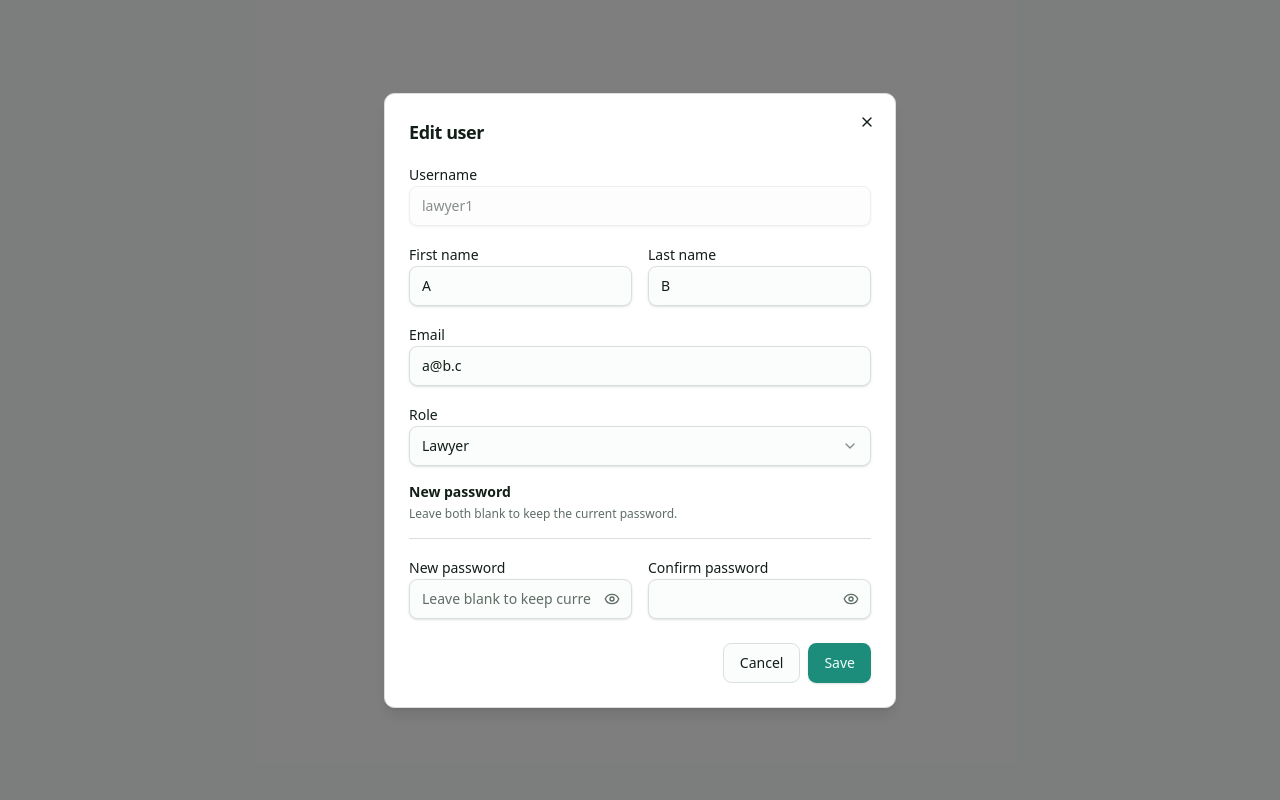
it: UserFormDialog password section › refuses to submit when the two passwords differ
The image size is (1280, 800).
Type "correct-horse-1" into the password field labelled "New password".
click(520, 598); type("correct-horse-1")  # box [409, 578, 632, 618]
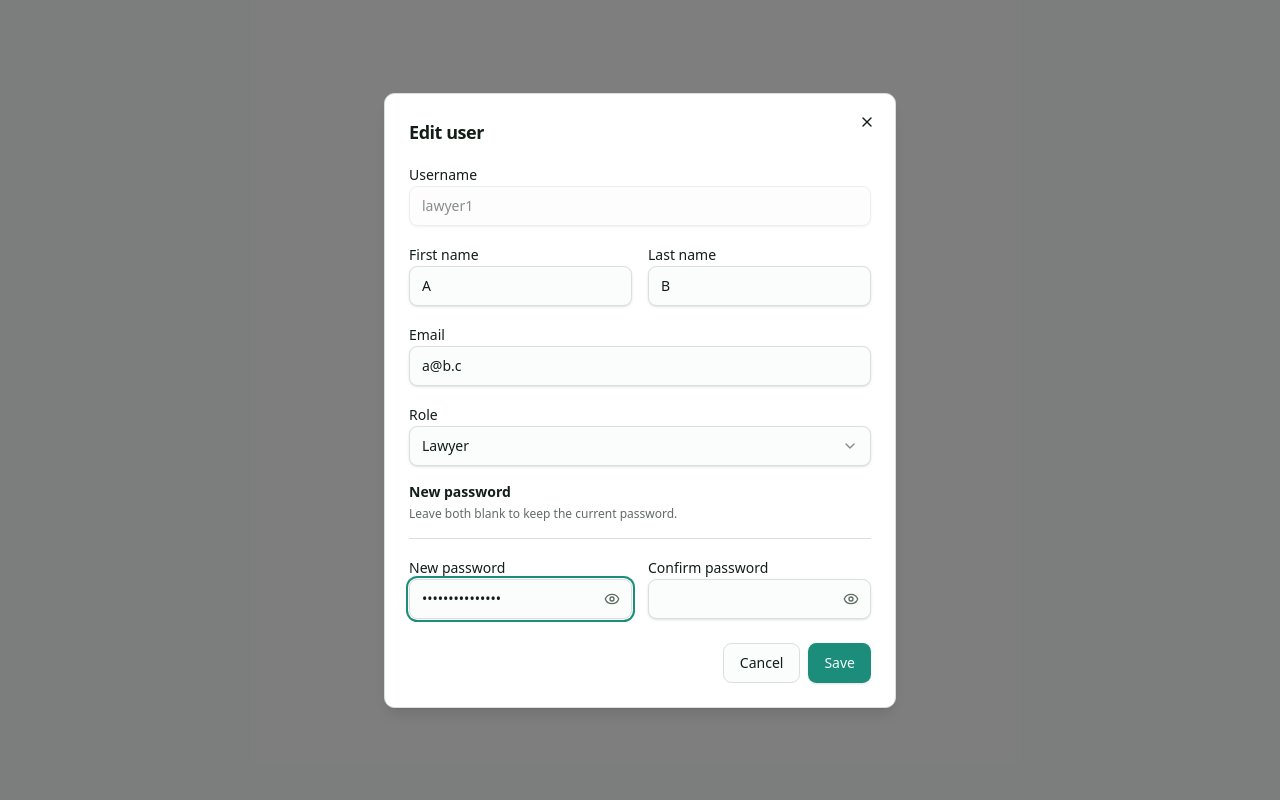
Type "correct-horse-2" into the password field labelled "Confirm password".
click(760, 598); type("correct-horse-2")  # box [648, 578, 871, 618]
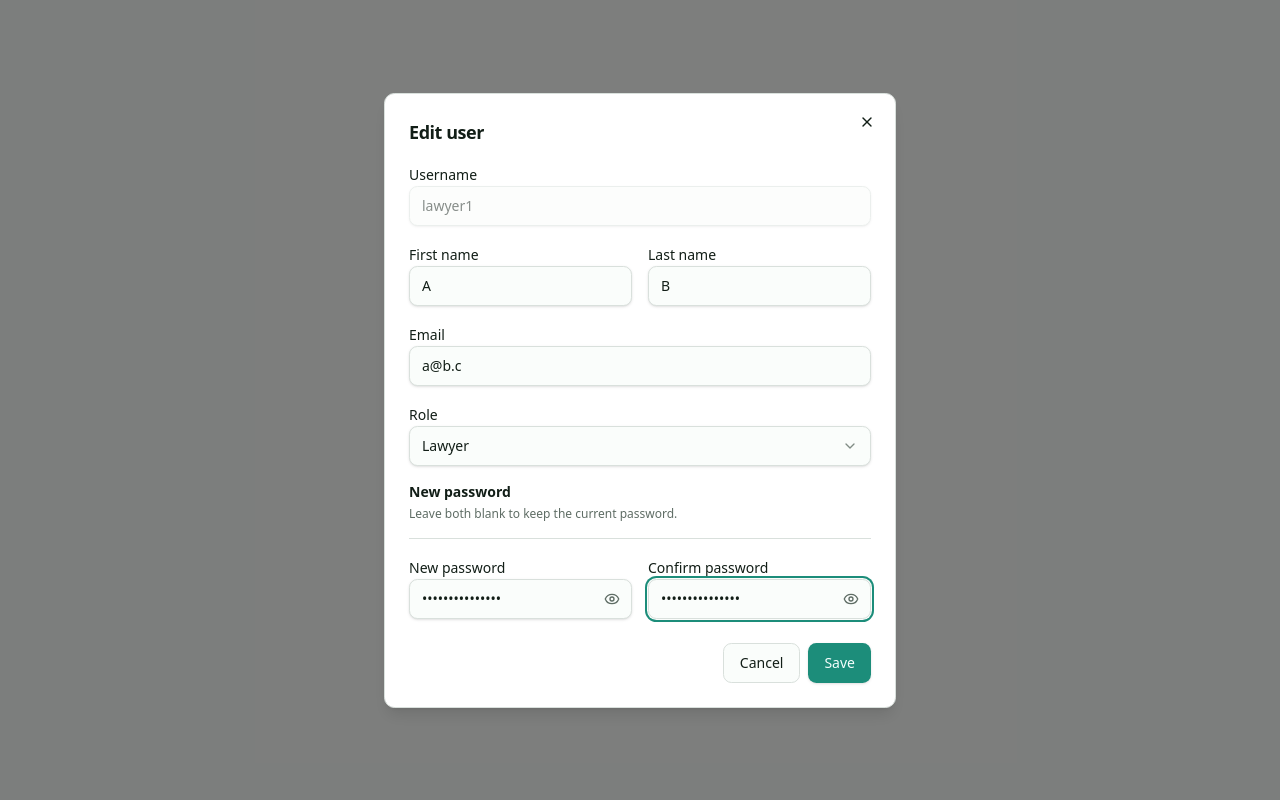
Click the button "Save".
click(840, 662)  # box [808, 642, 871, 682]
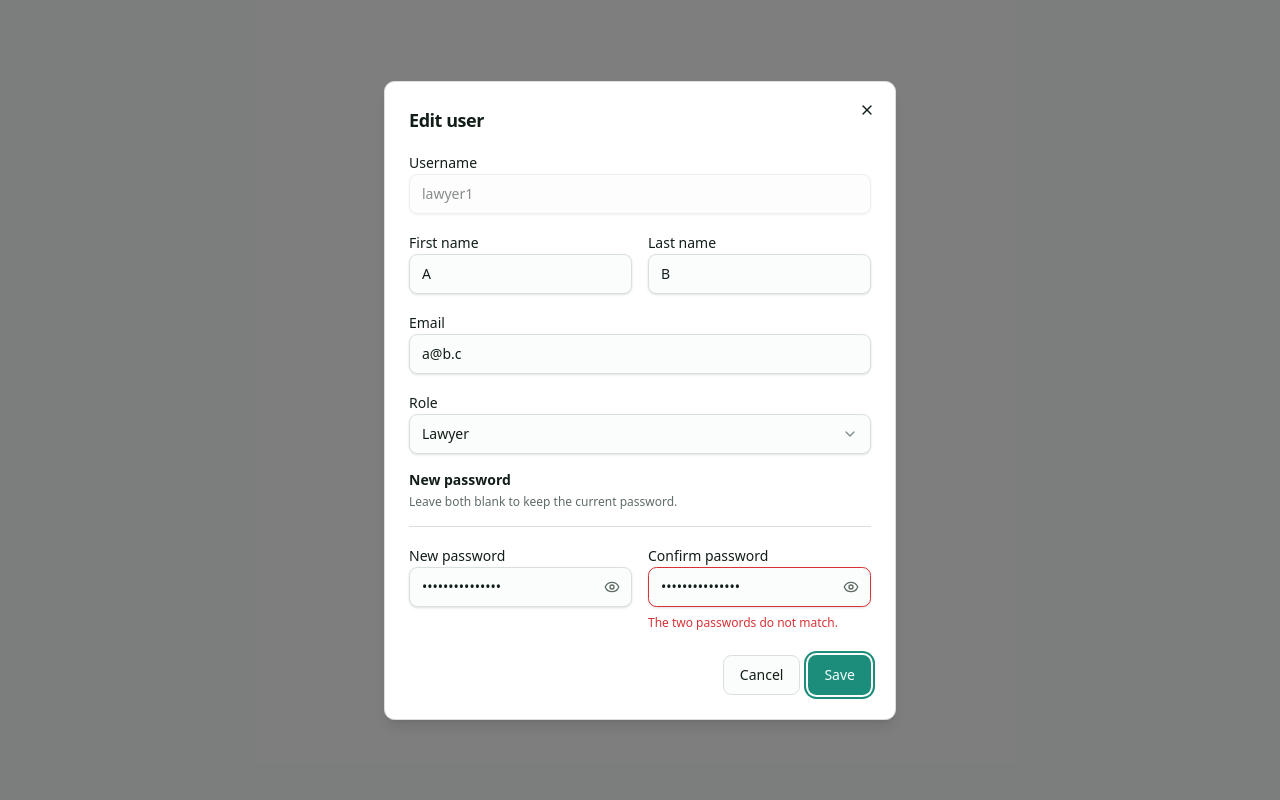
Check: the text "The two passwords do not match." is shown, box [648, 614, 871, 630]
